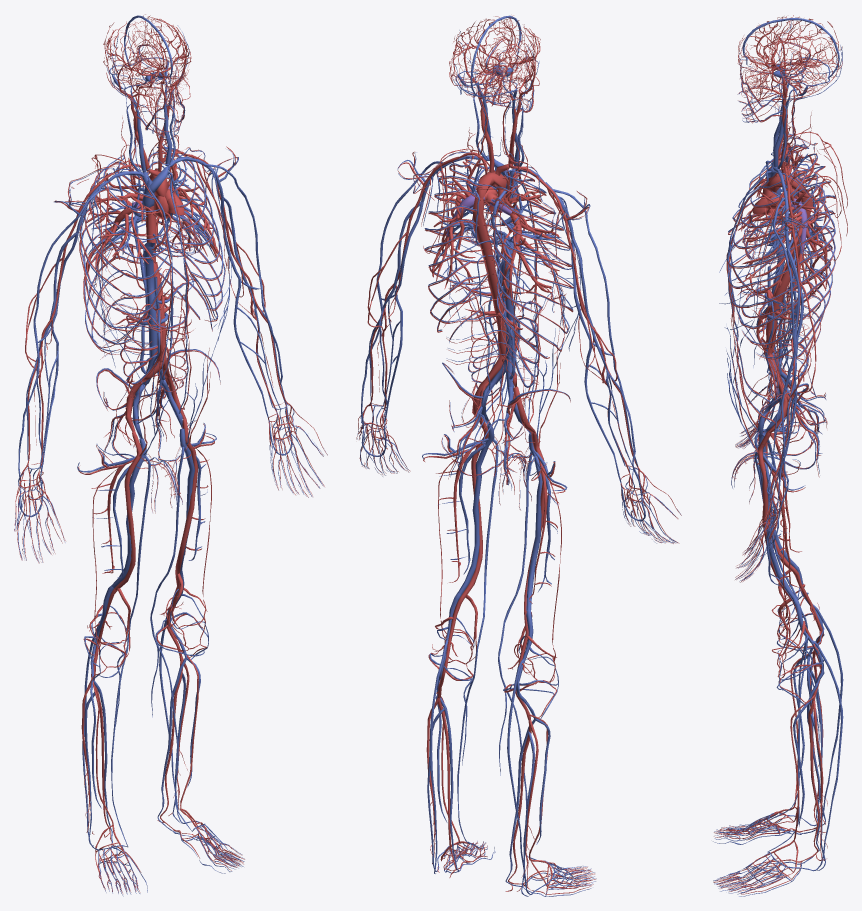
Rendered from vasos.glb.
3 renders of one model, left to right at view 1: azimuth 30°, elevation 25°; view 2: azimuth 150°, elevation 25°; view 3: azimuth 270°, elevation 25°, orthographic. The views are drawn at different scales.
Parts seen in each view (by area): view 1: vasos; view 2: vasos; view 3: vasos.
Boxes of the visible parts, x1,y1,x2,y2 form: vasos: (14,14,327,896); vasos: (356,15,681,896); vasos: (713,15,847,896).
Size of the model in its own units: 0.6636 by 1.7 by 0.2489.
